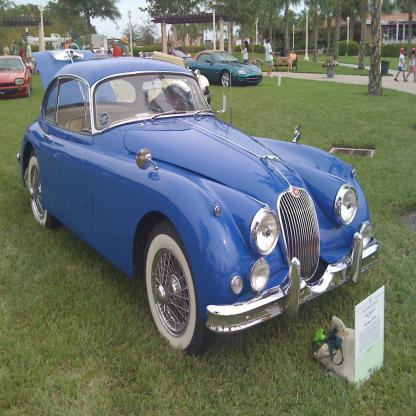Car: (17, 58, 380, 356), (184, 48, 262, 86), (0, 55, 32, 96)
